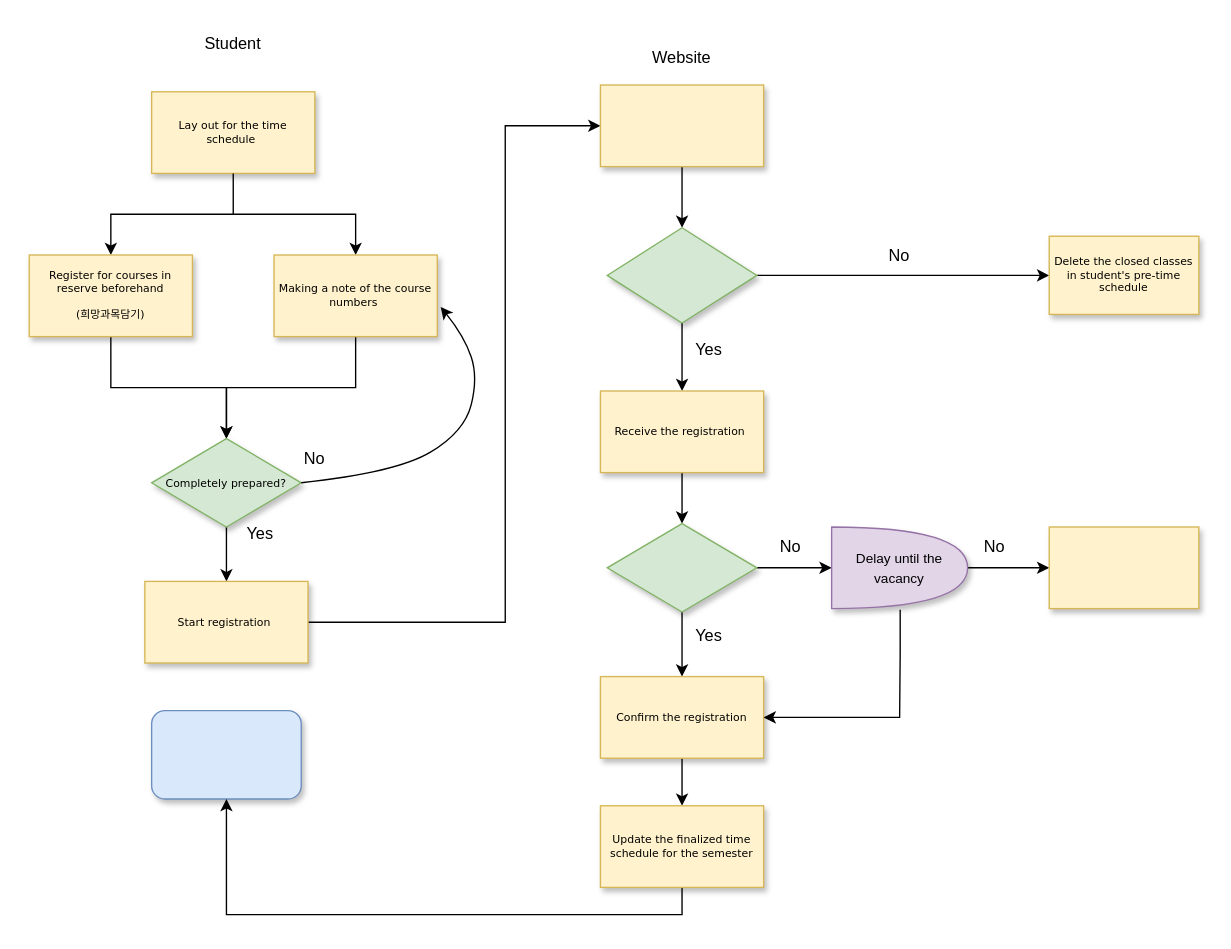
The diagram is 1231 pixels wide and 949 high, and some of its shapes have lost their labels. Each missing label, with the centre of its shape:
Complete the time schedule for the semester: point (227, 756)
Confirm: All courses available?: point (682, 277)
Fails to register: point (1124, 569)
Register the courses scheduled: point (683, 127)
Vacancies at class?: point (682, 569)
